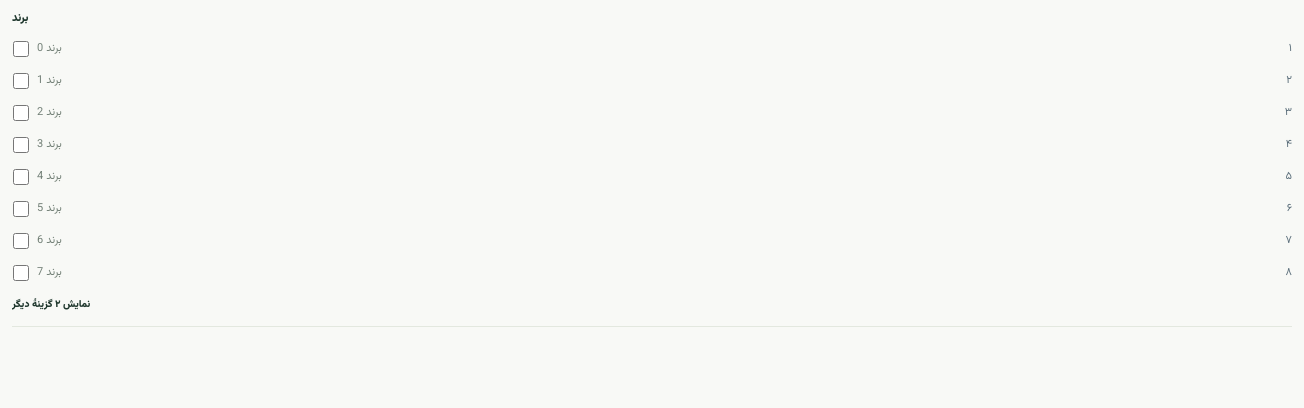
mobile catalog controls › expands long facet groups without changing their options
Expected: the text "برند 7" is shown, [37,264,62,282]
Expected: the text "برند 8" is not shown
Click the button "نمایش ۲ گزینهٔ دیگر" at (51, 305), box [12,297,90,314]
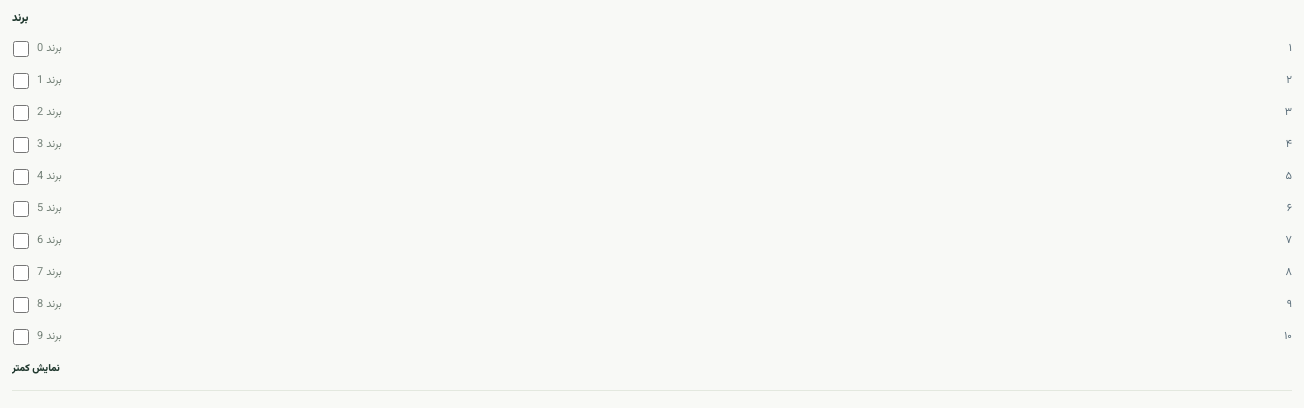
Expected: the text "برند 9" is shown, [37,328,62,346]
